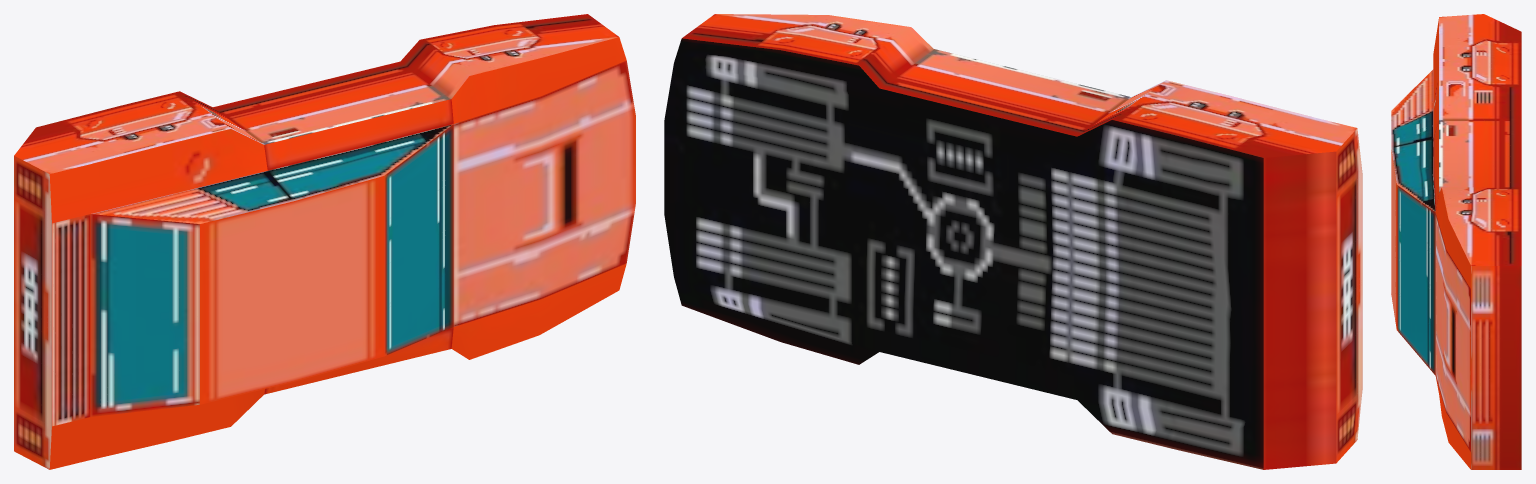
File: coupe.glb
The picture shows the model from 3 angles, left to right: view 1: azimuth 30°, elevation 25°; view 2: azimuth 150°, elevation 25°; view 3: azimuth 270°, elevation 25°; orthographic projection. The views are drawn at different scales.
Visible parts, largest first — view 1: coupe; view 2: coupe; view 3: coupe.
Part boxes in pixels (bbox=[...]): coupe: bbox=[14, 14, 635, 469]; coupe: bbox=[664, 14, 1362, 469]; coupe: bbox=[1391, 14, 1521, 469].
Size of the model in its own units: 62.37 by 28.94 by 14.27.
1 material, 1 textured.
